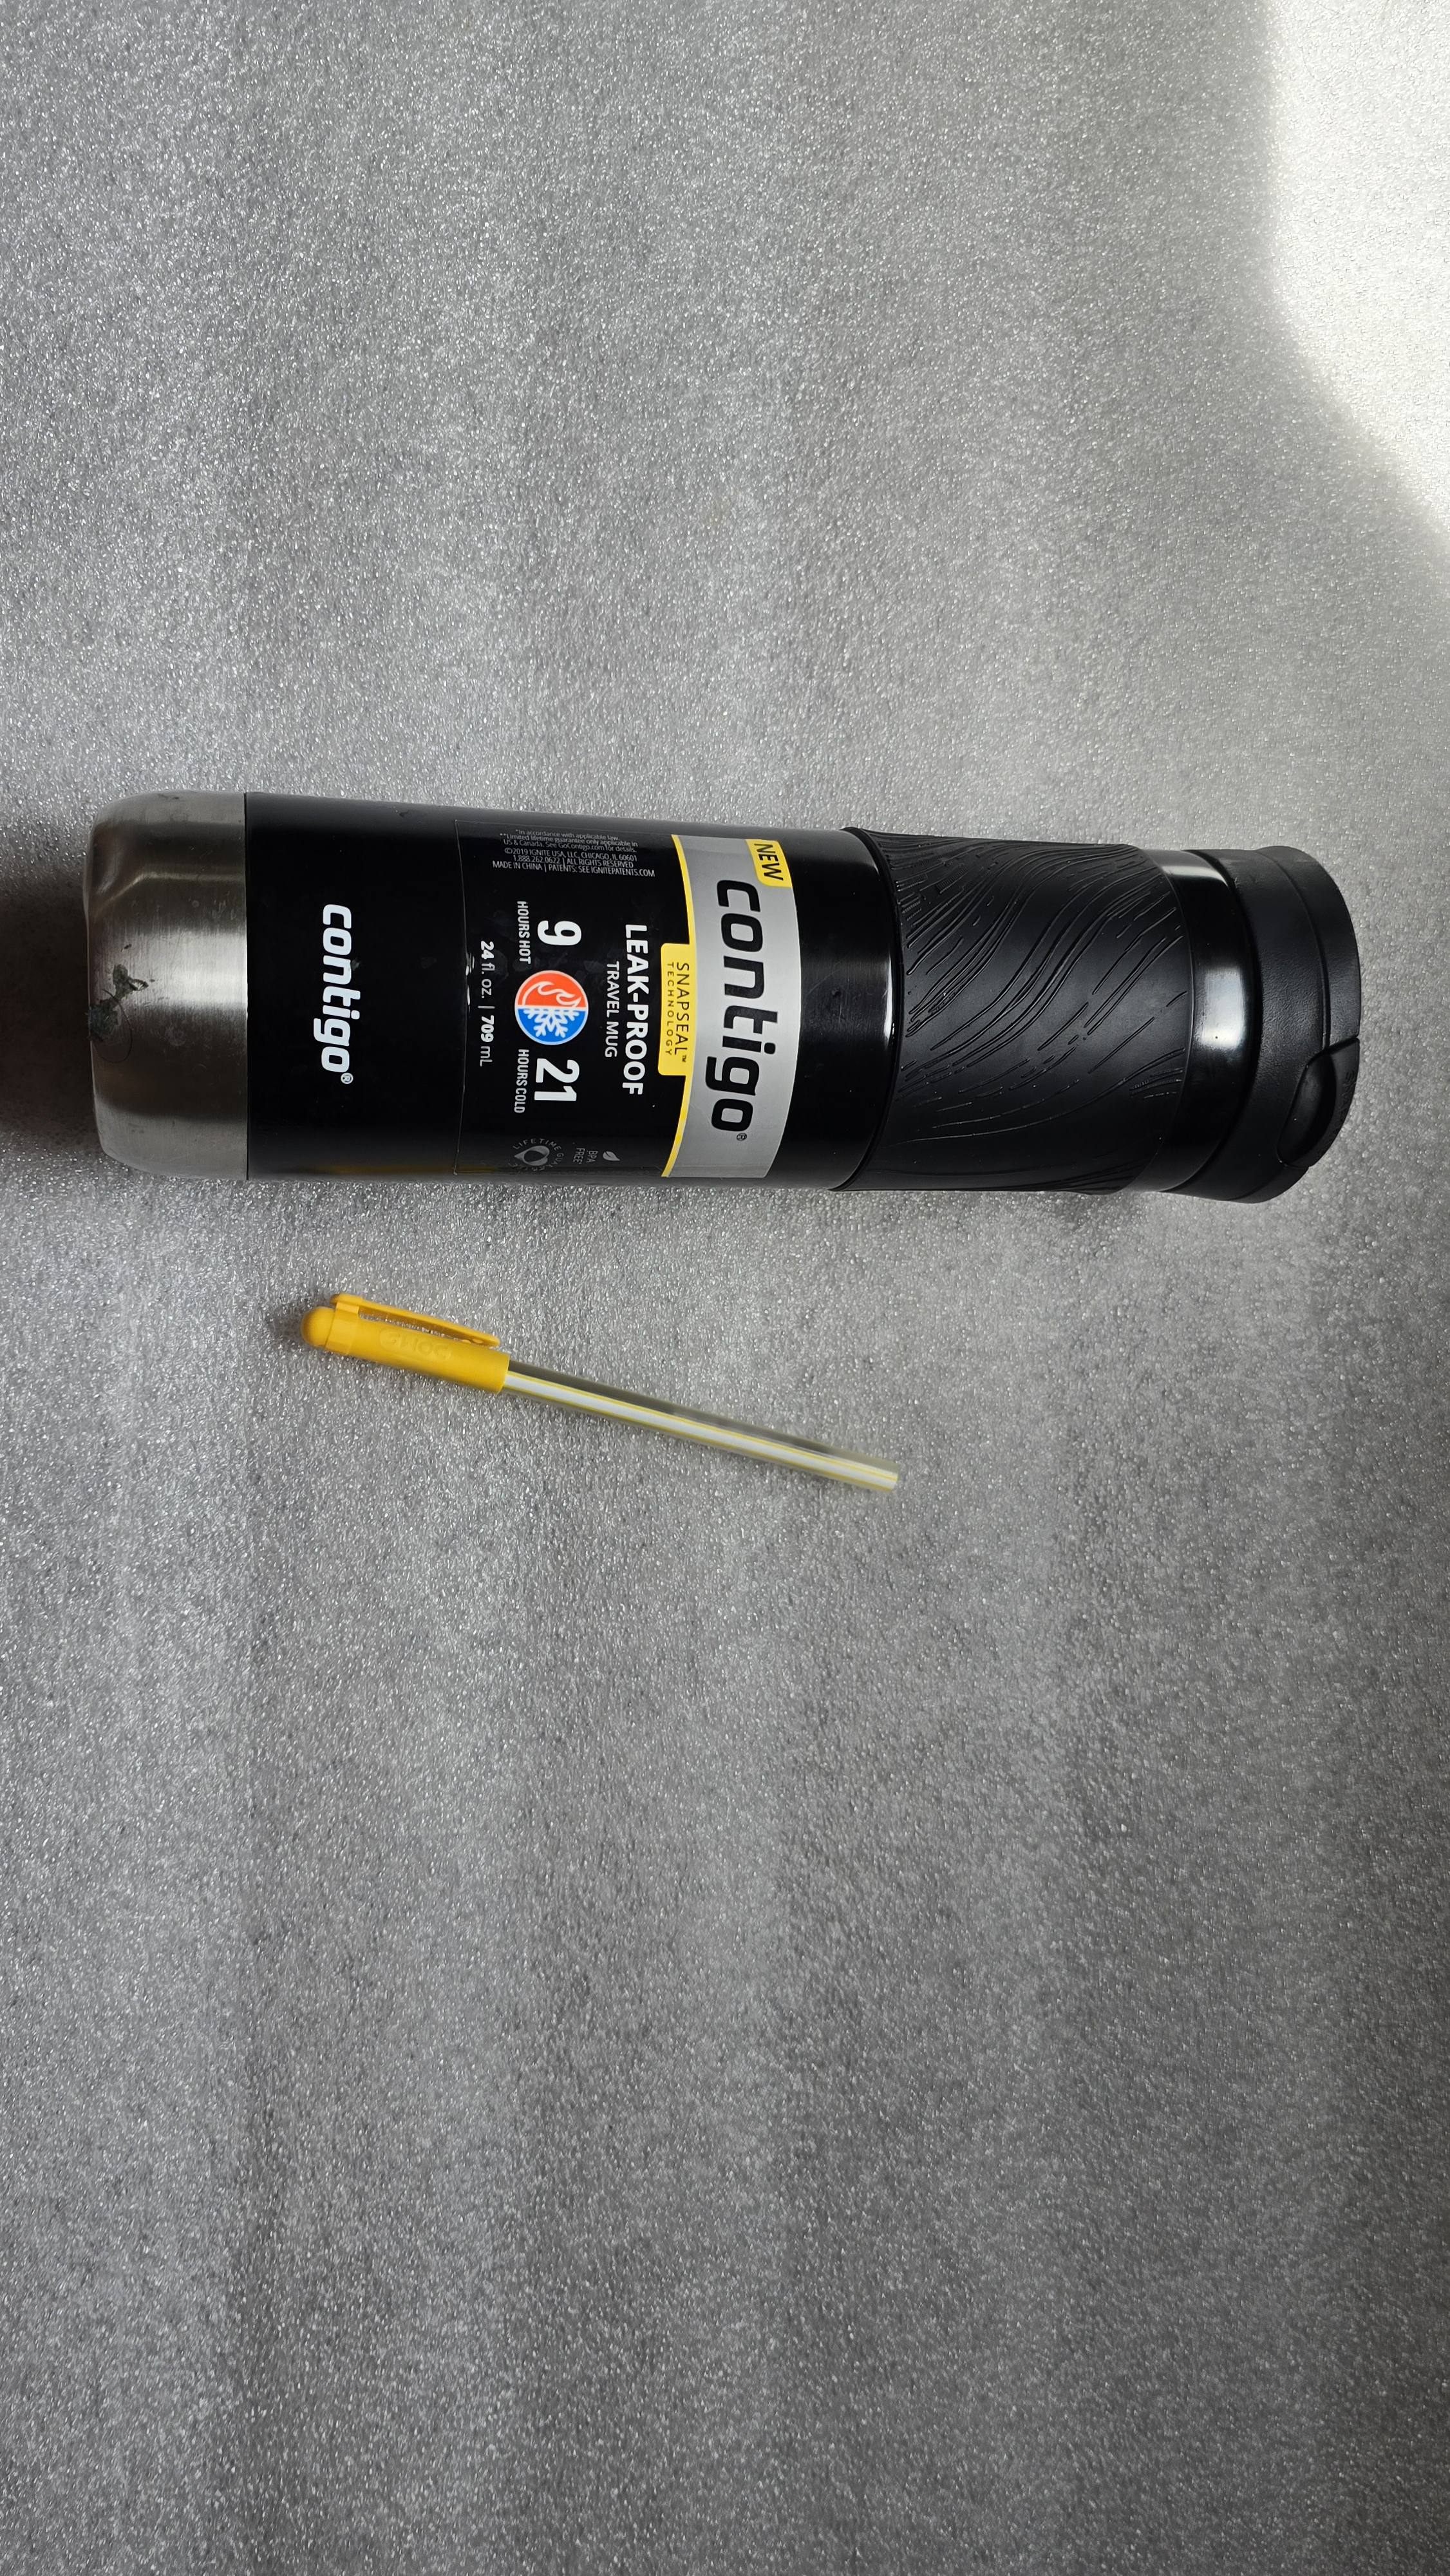bottle: (50, 747, 1393, 1251)
